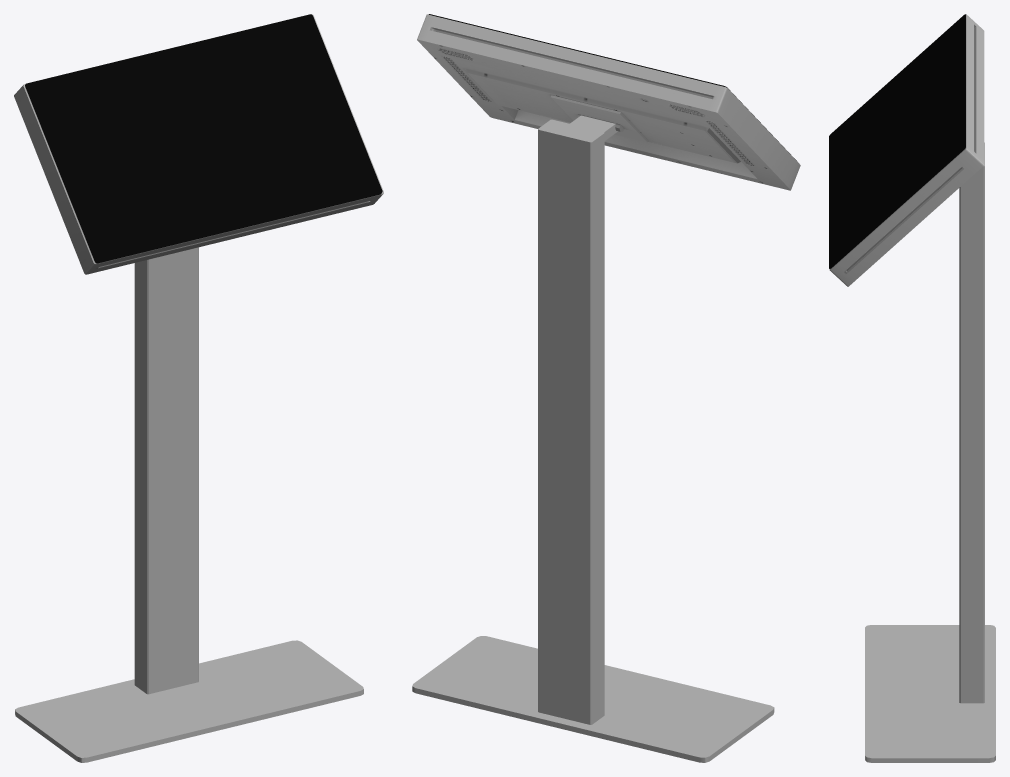
File: UTC-520hst.fbx
3 views of the same model, side by side, from view 1: azimuth 30°, elevation 25°; view 2: azimuth 150°, elevation 25°; view 3: azimuth 270°, elevation 25° (orthographic). The views are drawn at different scales.
Parts seen in each view (by area): view 1: A, B; view 2: B, A; view 3: B, A.
Boxes of the visible parts, bbox=[...] form: A: bbox=[14, 14, 383, 274]; B: bbox=[15, 247, 363, 762]; B: bbox=[412, 95, 774, 762]; A: bbox=[417, 14, 800, 190]; B: bbox=[865, 142, 995, 762]; A: bbox=[829, 14, 984, 286].
Size of the model in its own units: 52.05 by 110 by 27.05.
